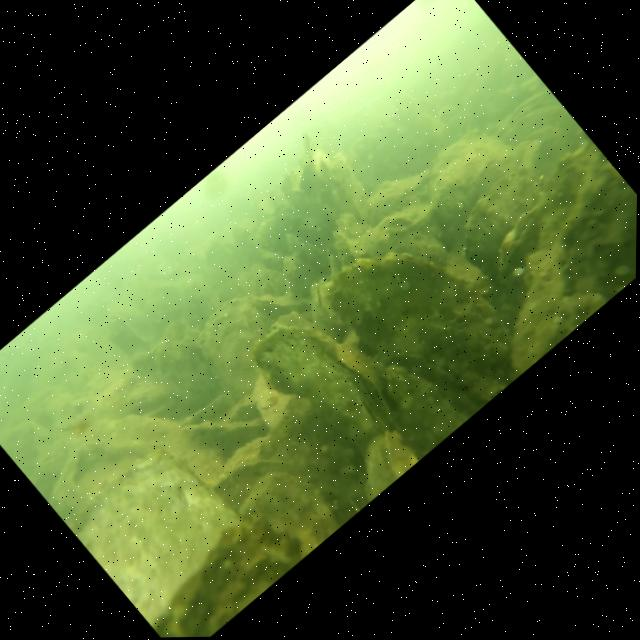Oyster-Closed: (310, 207, 539, 445), (237, 293, 415, 480), (437, 159, 564, 282), (136, 313, 238, 418), (182, 383, 269, 469), (476, 199, 564, 283), (359, 152, 440, 231), (345, 422, 423, 498), (364, 187, 443, 262), (314, 205, 380, 273), (245, 268, 311, 334), (292, 278, 354, 342), (277, 221, 335, 282), (269, 250, 320, 302), (244, 260, 285, 303), (315, 242, 347, 274)
Oyster-Indeterminate: (31, 394, 263, 632), (427, 134, 638, 377), (136, 496, 312, 638), (210, 418, 361, 572), (187, 287, 300, 403)
Oyster-Open: (358, 341, 473, 460), (491, 83, 575, 164), (96, 306, 153, 365), (119, 367, 172, 420)
